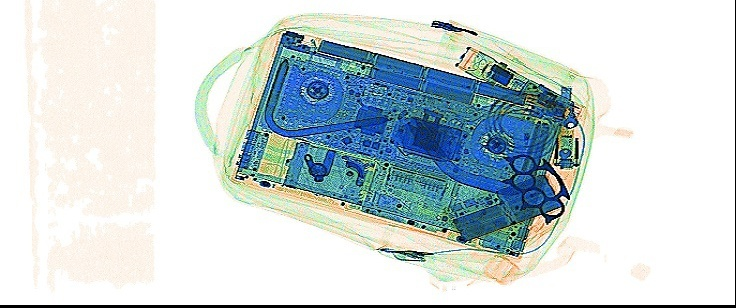powerbank: (442, 169, 563, 243)
